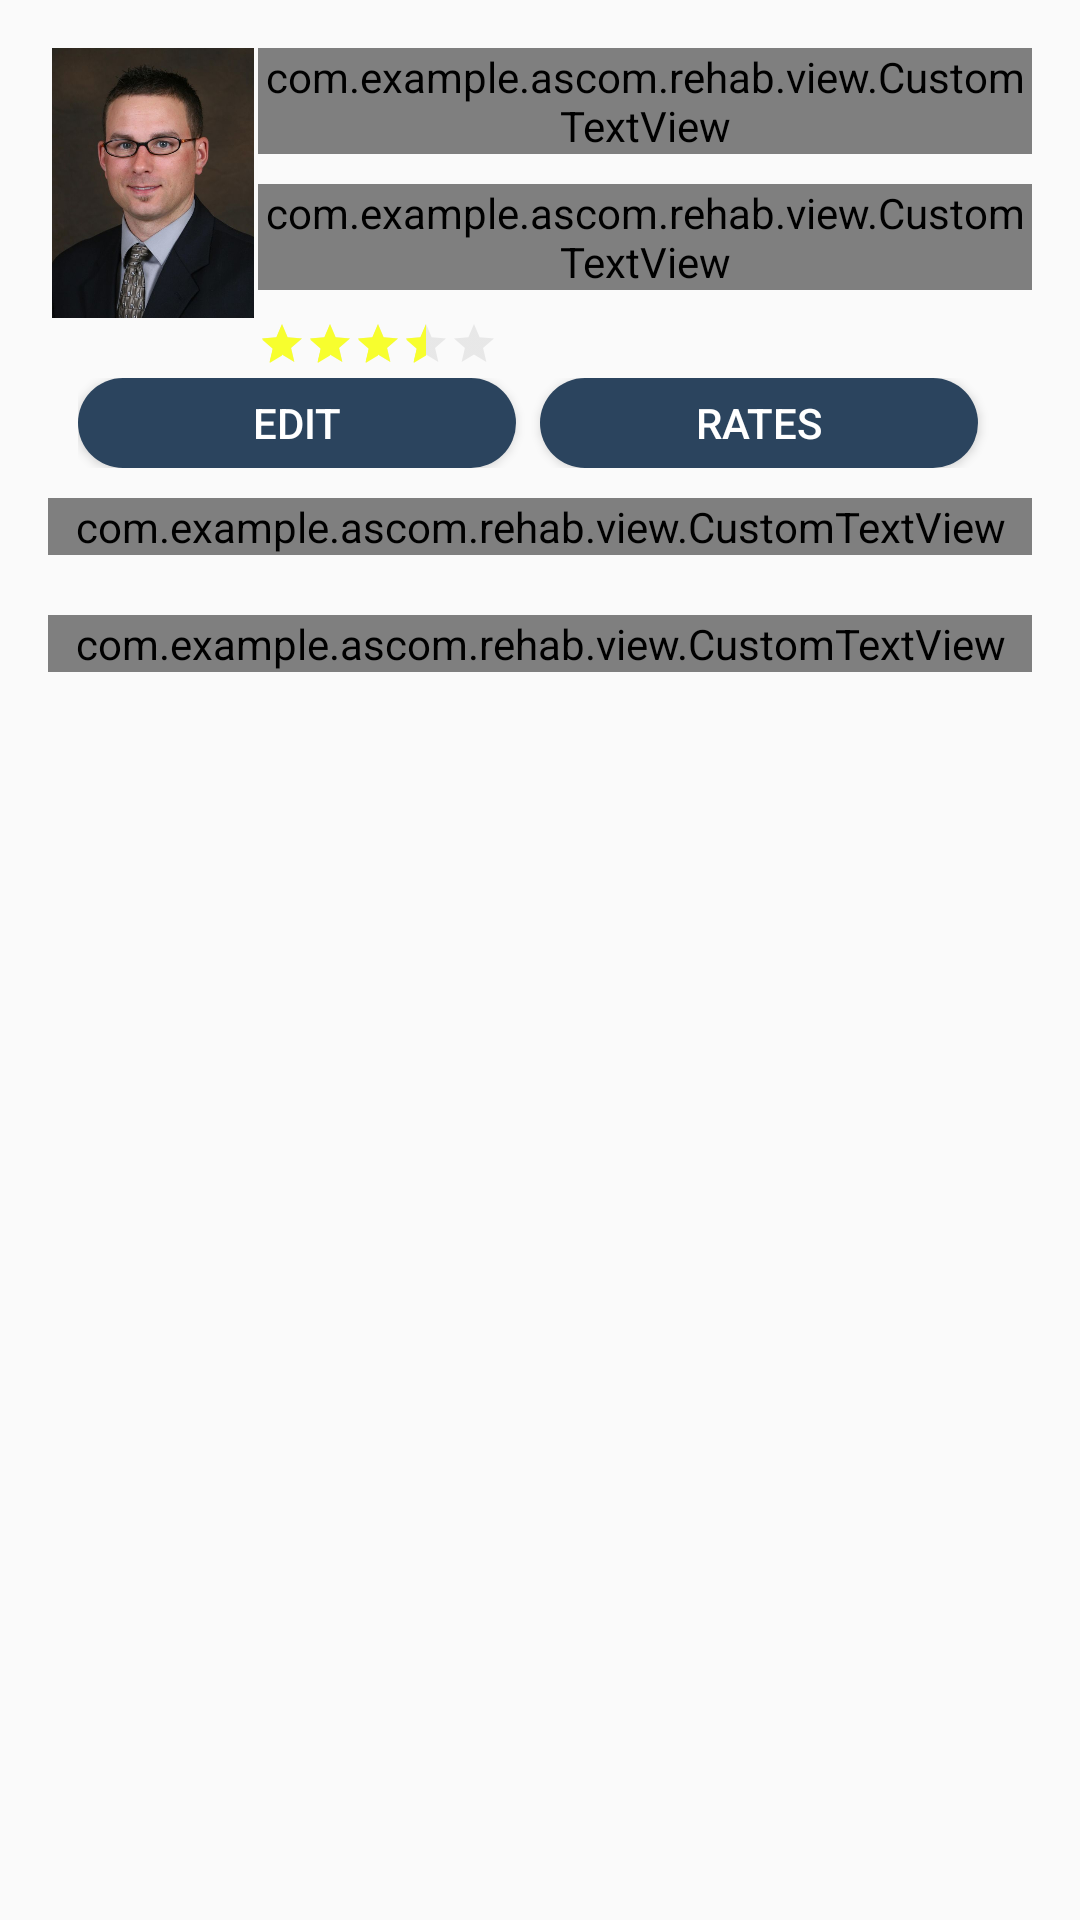

Named icons in this screenshot (1080w x 1920h) and their centers, (x,y):
profile: (153,183)
